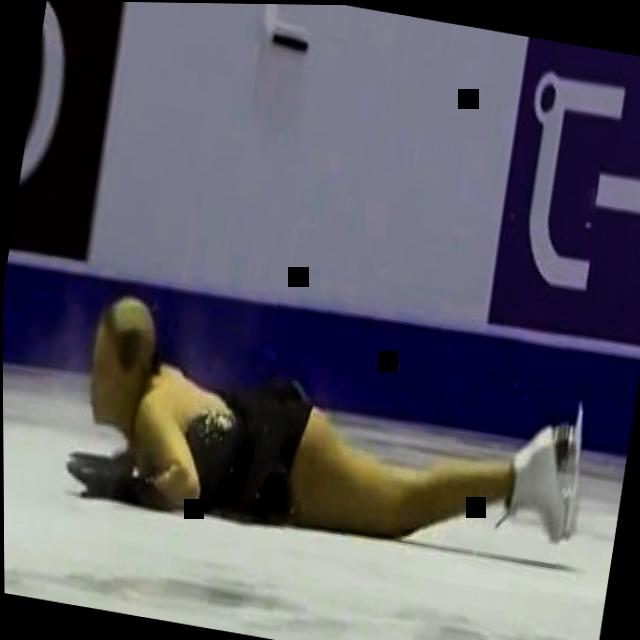Fall-Detected: (58, 278, 608, 593)
